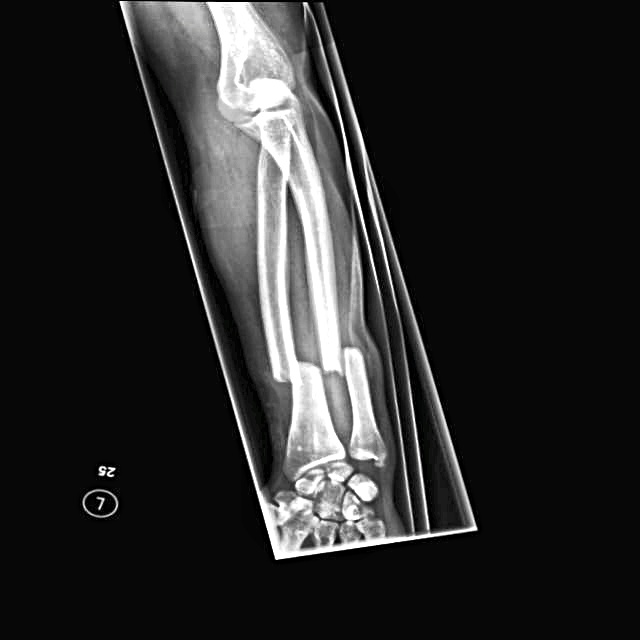Transverse: (316, 336, 368, 388), (261, 350, 321, 393)
